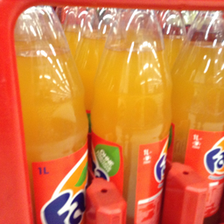soda: (91, 8, 172, 224), (15, 6, 89, 224), (170, 10, 223, 220)
